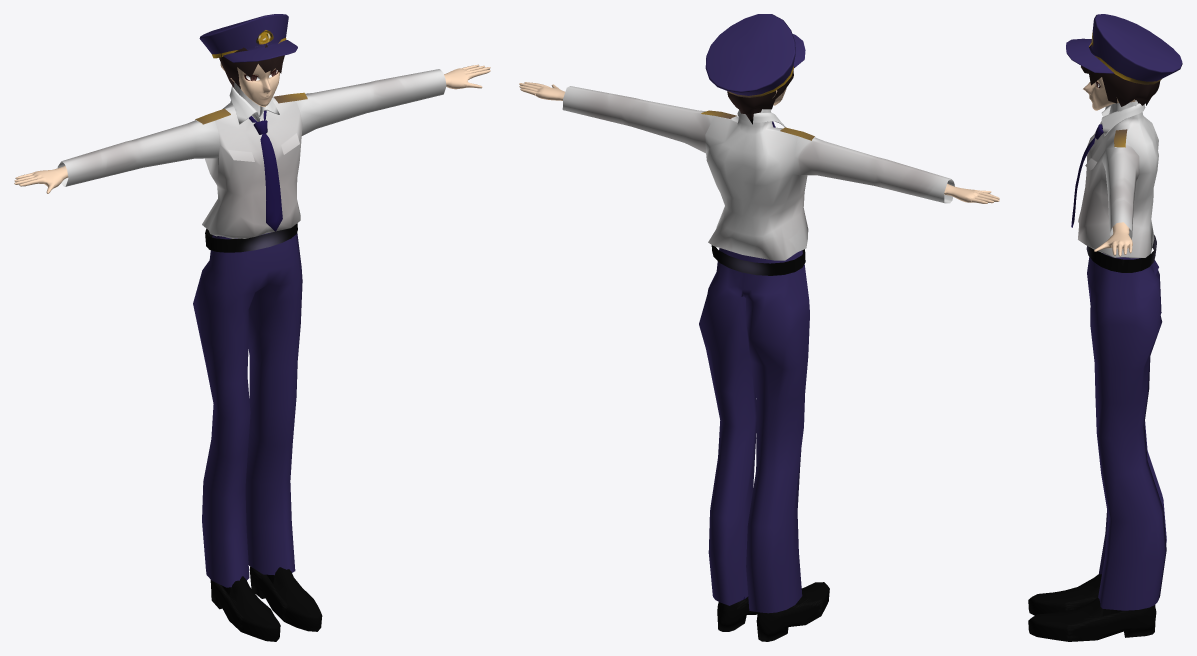
The model's file is keibi3.fbx.
The picture shows the model from 3 angles, left to right: view 1: azimuth 30°, elevation 25°; view 2: azimuth 150°, elevation 25°; view 3: azimuth 270°, elevation 25°; orthographic projection.
Visible parts, largest first — view 1: aa_0012:polySurface106; view 2: aa_0012:polySurface106; view 3: aa_0012:polySurface106.
Boxes of the visible parts, box(x1,y1,x2,y2) form: aa_0012:polySurface106: box(14, 14, 490, 641); aa_0012:polySurface106: box(519, 14, 999, 641); aa_0012:polySurface106: box(1028, 14, 1182, 641).
Bounding box in the file's own units: 137 × 165 × 38.
Materials: 1 (1 with a texture image).
